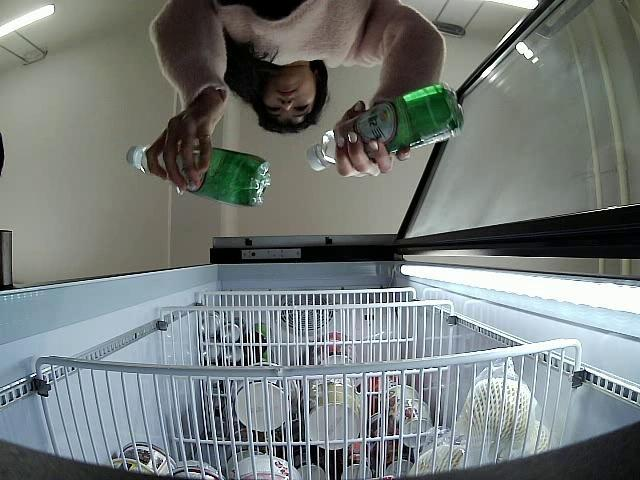18_trevi: (304, 82, 463, 172), (126, 139, 272, 208)
